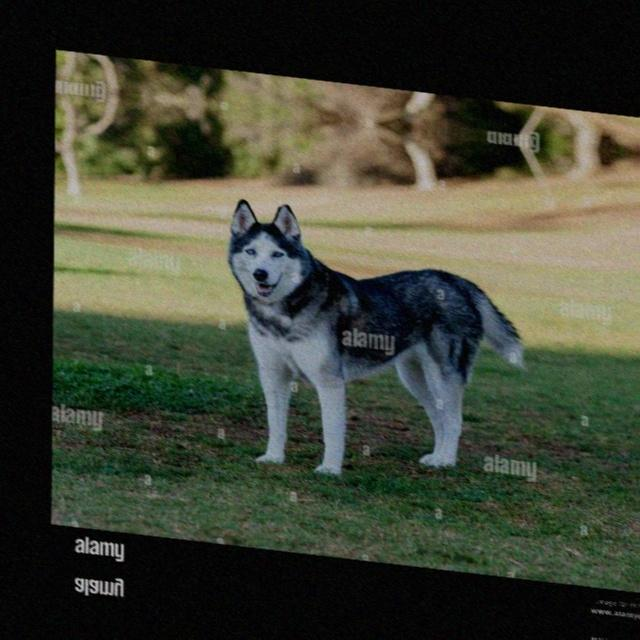dog: (216, 182, 540, 508)
